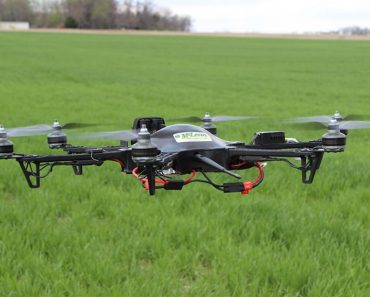drone: (1, 109, 370, 200)
